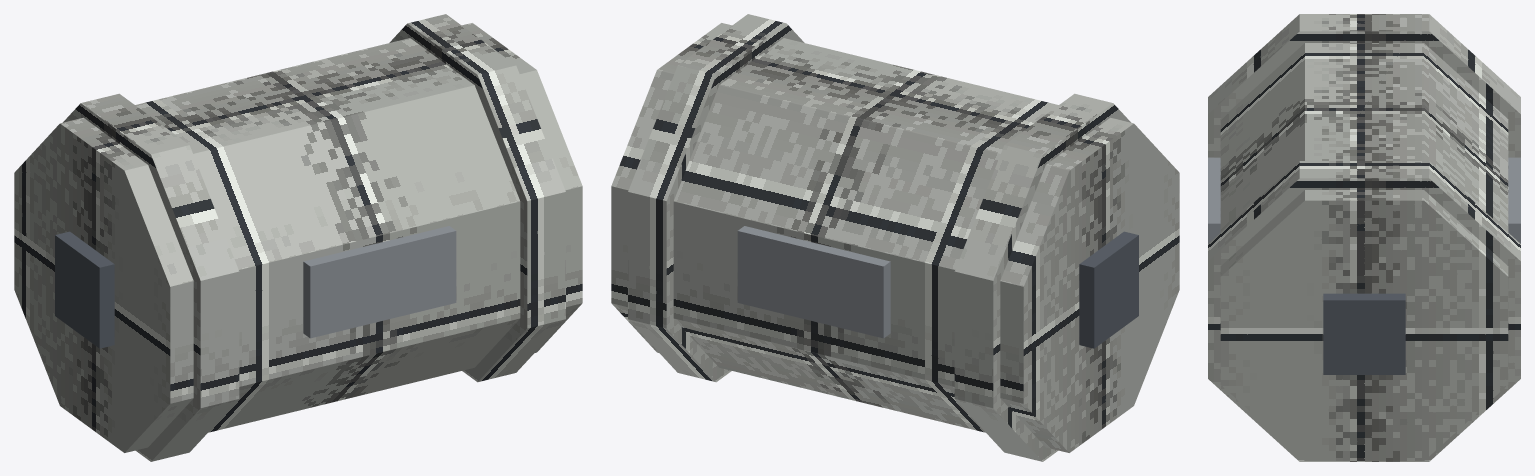
Rendered from phys_drum.glb.
3 views of the same model, side by side, from view 1: azimuth 30°, elevation 25°; view 2: azimuth 150°, elevation 25°; view 3: azimuth 270°, elevation 25° (orthographic). The views are drawn at different scales.
Parts seen in each view (by area): view 1: phys_drum, lightened_panel_0, attach_hub_0; view 2: phys_drum, lightened_panel_1, attach_hub_0; view 3: phys_drum, attach_hub_1, lightened_panel_0, lightened_panel_1.
Boxes of the visible parts, x1,y1,x2,y2 form: phys_drum: [14, 14, 582, 461]; lightened_panel_0: [303, 226, 456, 338]; attach_hub_0: [55, 231, 114, 348]; phys_drum: [611, 14, 1179, 461]; lightened_panel_1: [737, 226, 890, 338]; attach_hub_0: [1079, 231, 1138, 348]; phys_drum: [1208, 14, 1520, 461]; attach_hub_1: [1323, 293, 1405, 374]; lightened_panel_0: [1208, 157, 1220, 243]; lightened_panel_1: [1508, 157, 1520, 243].
Size of the model in its own units: 1.03 by 0.6837 by 0.6837.
Materials: 3 (1 with a texture image).
